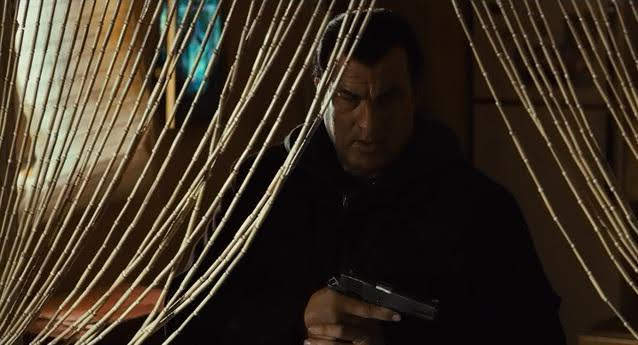gun: (323, 253, 468, 343)
